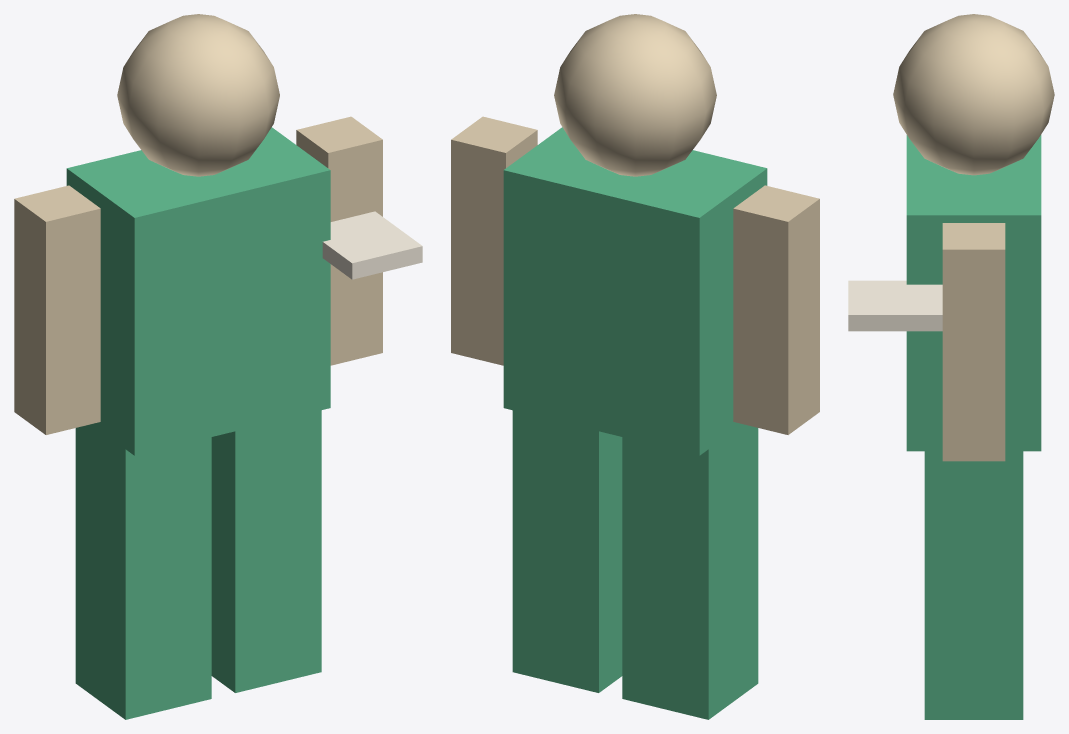
Rendered from quest.glb.
The picture shows the model from 3 angles, left to right: view 1: azimuth 30°, elevation 25°; view 2: azimuth 150°, elevation 25°; view 3: azimuth 270°, elevation 25°; orthographic projection.
Visible parts, largest first — view 1: npc; view 2: npc; view 3: npc.
Boxes of the visible parts, left/top/right/bottom form: npc: left=14, top=14, right=422, bottom=719; npc: left=451, top=14, right=819, bottom=719; npc: left=848, top=14, right=1054, bottom=719.
Bounding box in the file's own units: 0.86 × 1.6 × 0.46.
